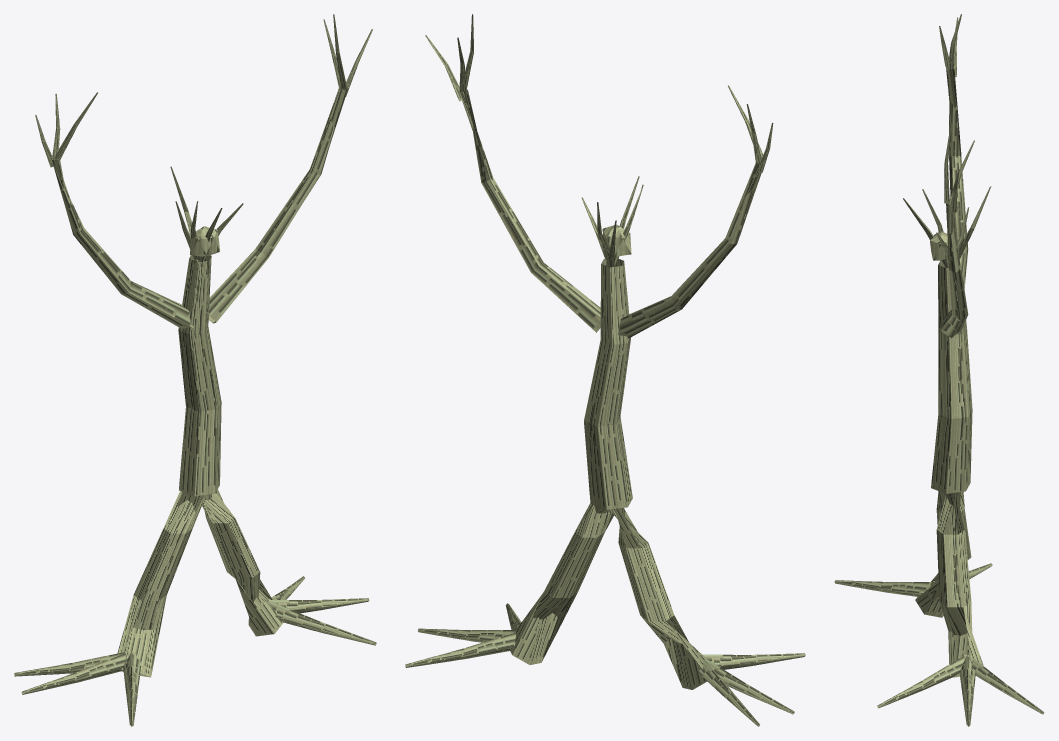
Rendered from SM_Forest_Tree_Twisted_420x220x670.fbx.
3 views of the same model, side by side, from view 1: azimuth 30°, elevation 25°; view 2: azimuth 150°, elevation 25°; view 3: azimuth 270°, elevation 25° (orthographic). The views are drawn at different scales.
Visible parts, largest first — view 1: SM_Forest_Tree_Twisted_420x220x670.001; view 2: SM_Forest_Tree_Twisted_420x220x670.001; view 3: SM_Forest_Tree_Twisted_420x220x670.001.
Boxes of the visible parts, <box> form: SM_Forest_Tree_Twisted_420x220x670.001: <box>14,14,376,726</box>; SM_Forest_Tree_Twisted_420x220x670.001: <box>405,14,805,726</box>; SM_Forest_Tree_Twisted_420x220x670.001: <box>834,14,1044,726</box>.
Size of the model in its own units: 4.19 by 6.86 by 2.23.
